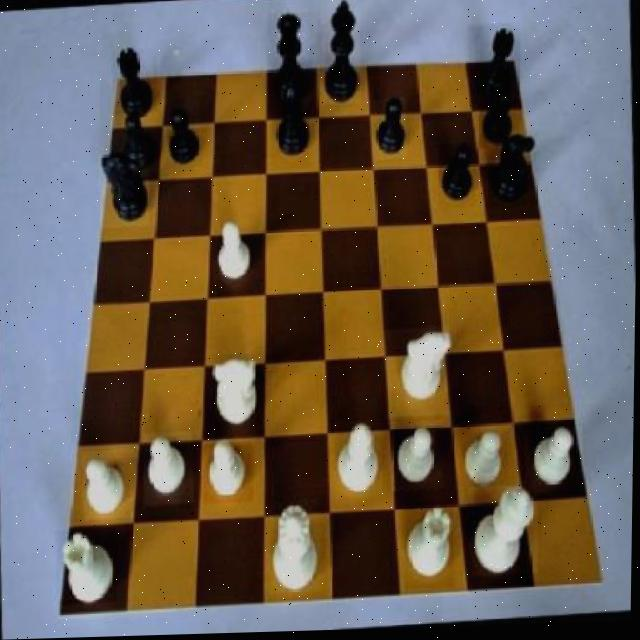bishop: (269, 82, 312, 173)
black-bishop: (320, 0, 362, 107)
black-king: (487, 133, 541, 211), (99, 152, 152, 229)
black-knight: (113, 113, 158, 177), (478, 91, 525, 152), (437, 144, 478, 211), (164, 105, 202, 173), (374, 100, 408, 163)
black-pawn: (267, 13, 317, 114)
black-queen: (468, 25, 523, 107), (111, 49, 159, 117)
black-rook: (333, 420, 384, 501)
white-bishop: (470, 486, 542, 580)
white-king: (384, 329, 452, 422), (202, 352, 270, 438)
white-knight: (525, 428, 586, 498), (83, 450, 136, 522), (145, 432, 196, 506), (391, 422, 444, 493), (206, 222, 257, 290), (203, 442, 255, 505), (462, 435, 512, 491)
white-pawn: (270, 500, 325, 594)
white-queen: (56, 528, 121, 606), (404, 505, 457, 592)
